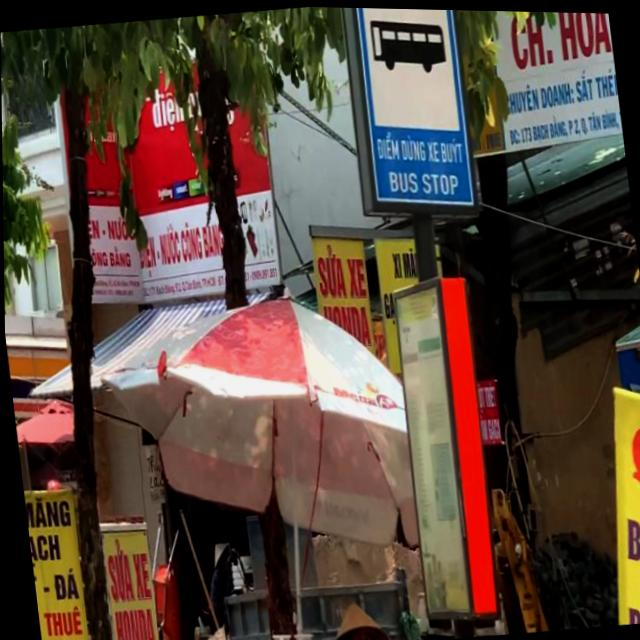Ben xe buyt: (350, 6, 476, 214)
